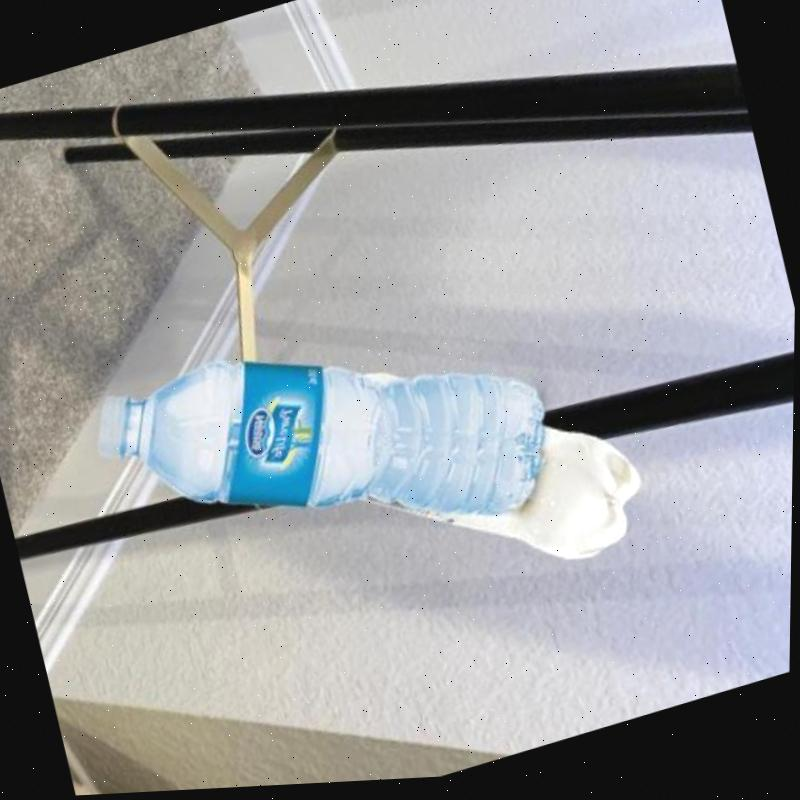botella: (83, 271, 569, 625)
